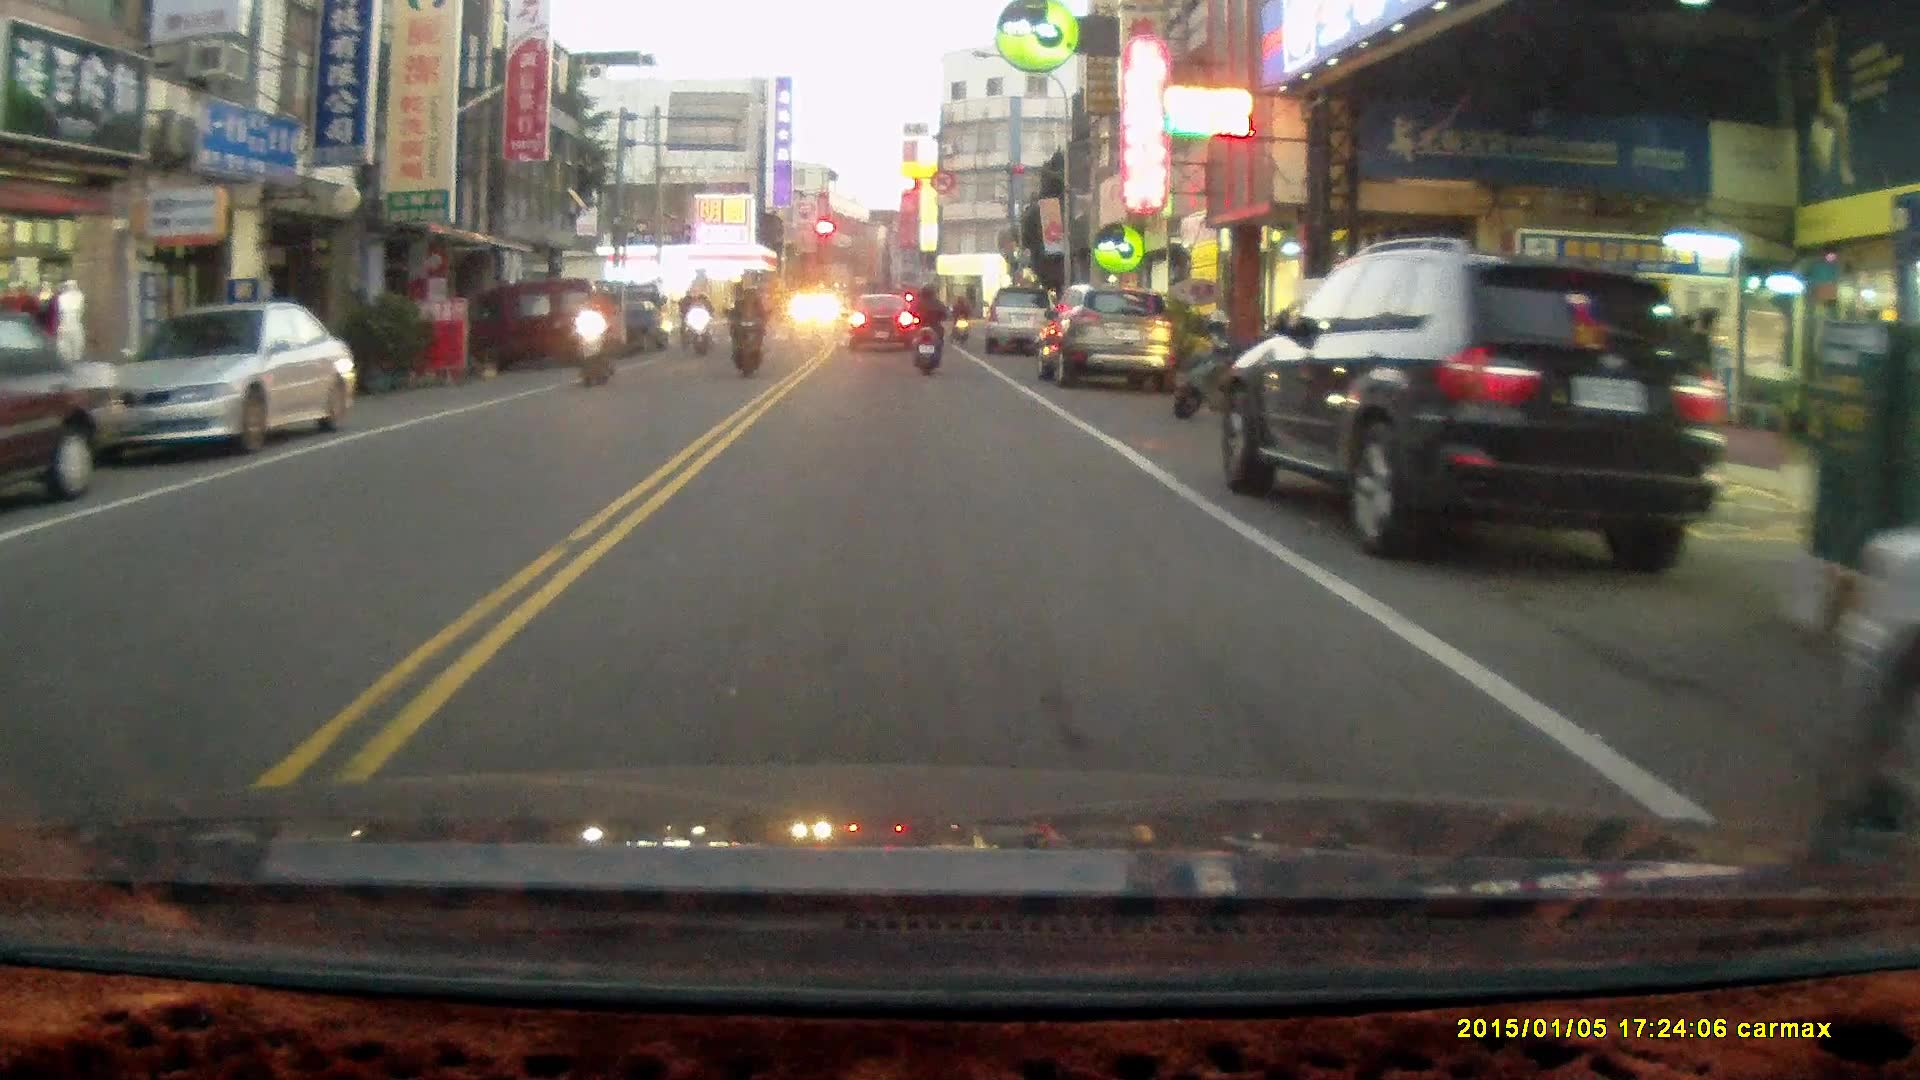rider: (575, 278, 618, 385), (724, 284, 764, 381), (908, 279, 947, 377), (686, 292, 713, 360), (948, 294, 969, 345)
vehicle: (1220, 244, 1720, 578), (74, 300, 367, 460), (1831, 517, 1920, 825), (3, 312, 130, 516), (1036, 286, 1175, 393), (499, 279, 618, 370), (985, 289, 1066, 363)
